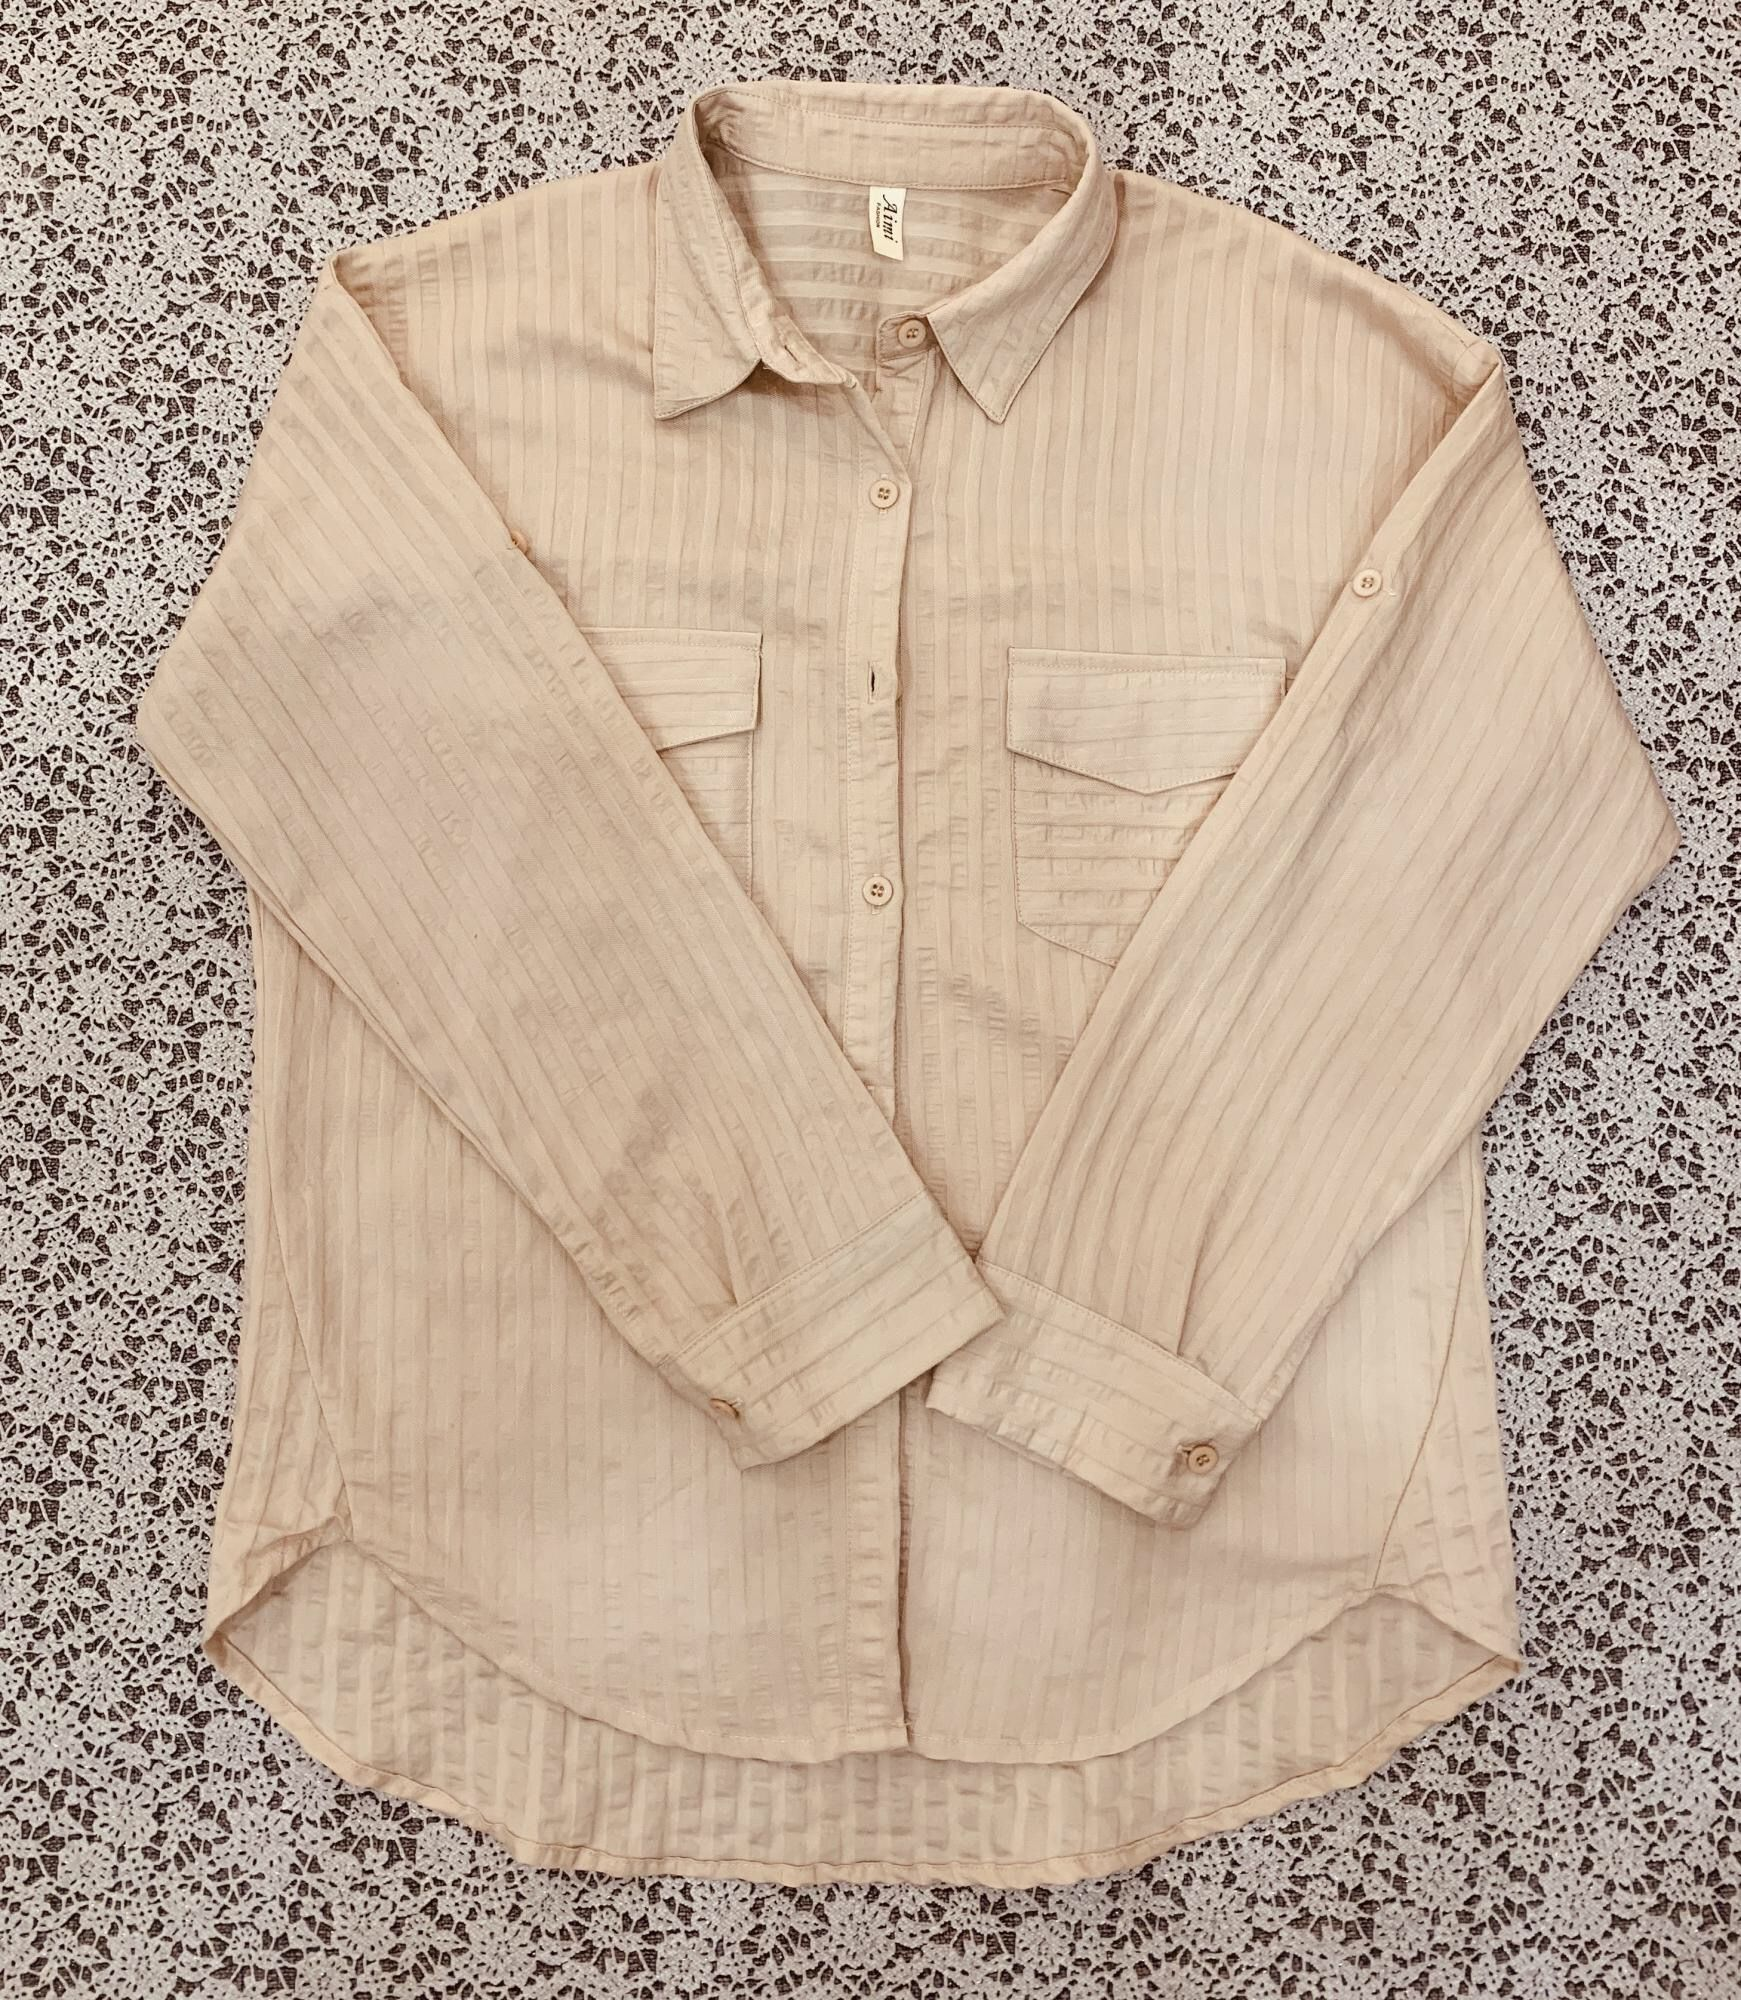clothes: (119, 58, 1678, 1866)
